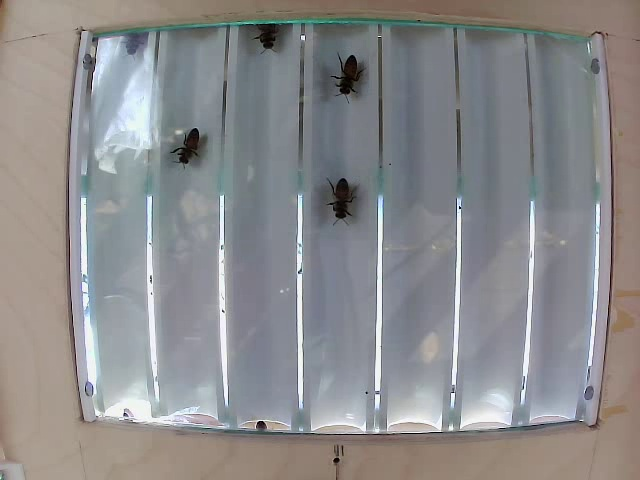bee: (315, 171, 350, 238), (255, 13, 290, 60), (327, 62, 363, 107), (171, 123, 206, 168), (128, 33, 158, 59)
